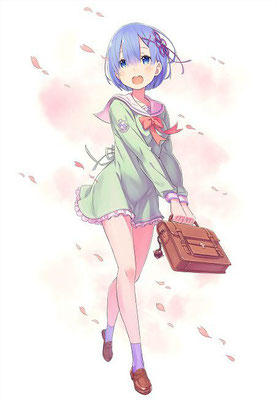rem: (86, 22, 198, 394)
